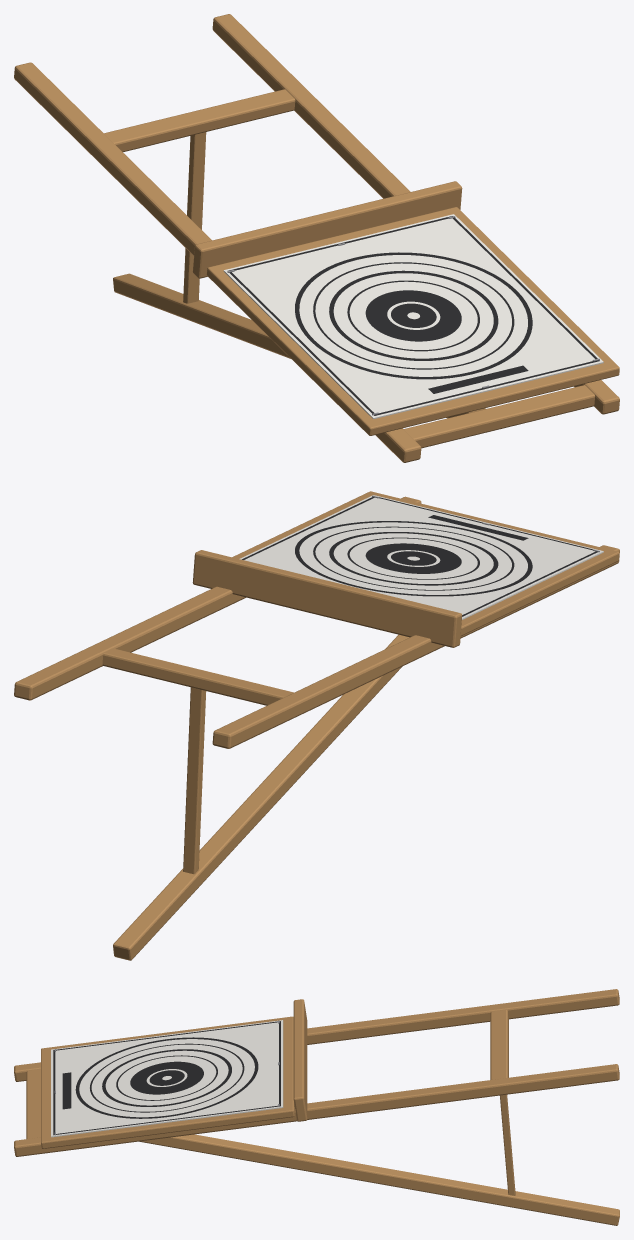
The model's file is stand.obj.
The picture shows the model from 3 angles, top to bottom: view 1: azimuth 30°, elevation 25°; view 2: azimuth 150°, elevation 25°; view 3: azimuth 270°, elevation 25°; orthographic projection. The views are drawn at different scales.
Bounding box in the file's own units: 0.66 × 0.603 × 1.71.
